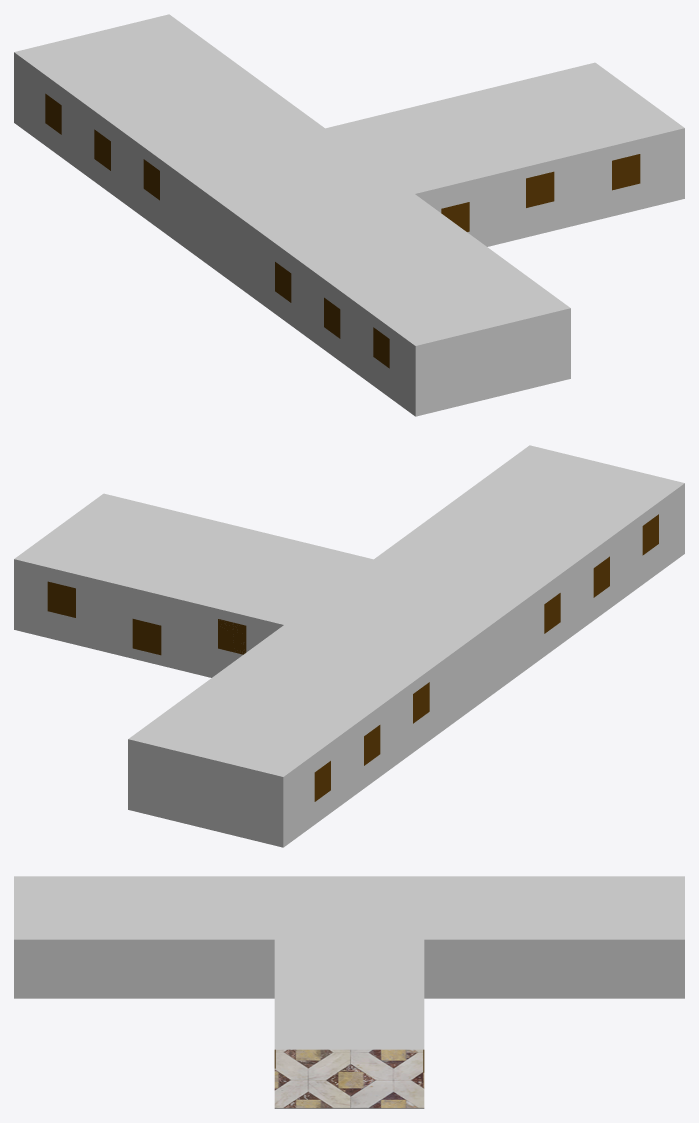
File: gallery.glb
3 views of the same model, one above another, from view 1: azimuth 30°, elevation 25°; view 2: azimuth 150°, elevation 25°; view 3: azimuth 270°, elevation 25° (orthographic). The views are drawn at different scales.
Parts seen in each view (by area): view 1: Room, Plane, Plane.003; view 2: Room, Plane.012, Plane.014, Plane.010; view 3: Room.
Part boxes in pixels (x1,y1,x2,y2): Room: (14, 14, 684, 416); Plane: (612, 154, 640, 190); Plane.003: (526, 171, 554, 207); Room: (14, 445, 684, 847); Plane.012: (132, 619, 161, 655); Plane.014: (47, 581, 75, 617); Plane.010: (218, 619, 246, 654); Room: (14, 876, 684, 1108).
Bounding box in the file's own units: 63 × 10 × 103.
21 materials, 1 textured.
